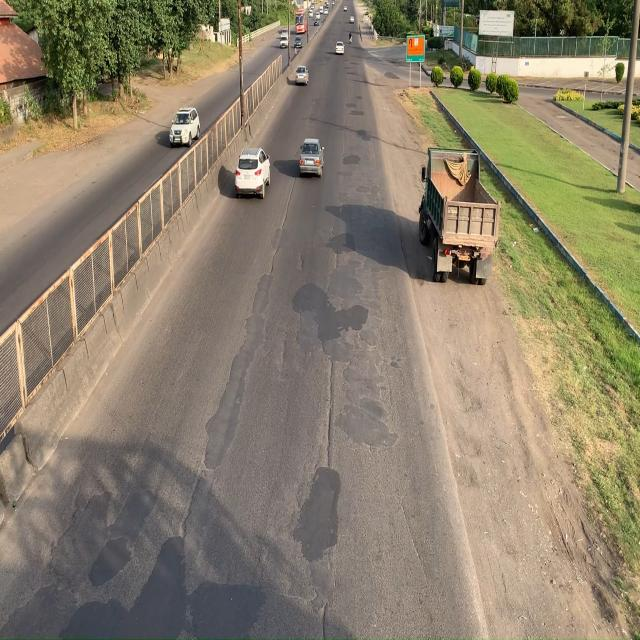Truck: (411, 150, 494, 290)
cars: (235, 147, 271, 195), (168, 108, 200, 147), (297, 137, 324, 177)
